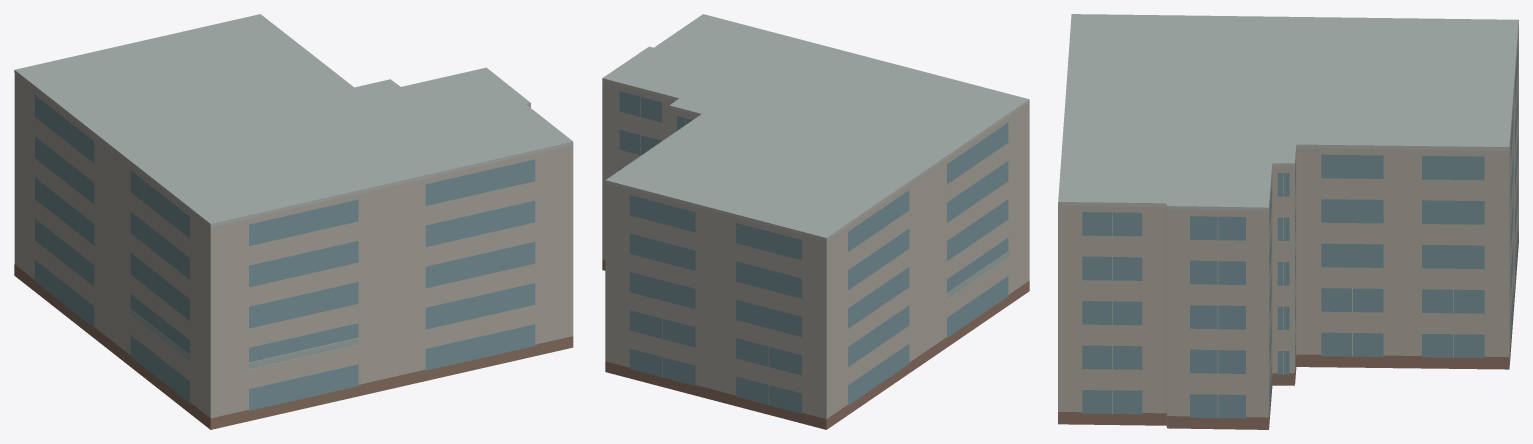
Rendered from survey-upis-32566300.glb.
The picture shows the model from 3 angles, left to right: view 1: azimuth 30°, elevation 25°; view 2: azimuth 150°, elevation 25°; view 3: azimuth 270°, elevation 25°; orthographic projection. The views are drawn at different scales.
Visible parts, largest first — view 1: survey-upis-32566300.tmp; view 2: survey-upis-32566300.tmp; view 3: survey-upis-32566300.tmp.
Part boxes in pixels (left/top/right/bottom): survey-upis-32566300.tmp: left=14, top=14, right=573, bottom=429; survey-upis-32566300.tmp: left=602, top=14, right=1029, bottom=429; survey-upis-32566300.tmp: left=1058, top=14, right=1518, bottom=429.
Size of the model in its own units: 27.82 by 14.9 by 27.99.
